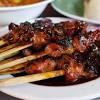sate: (2, 8, 100, 90)
